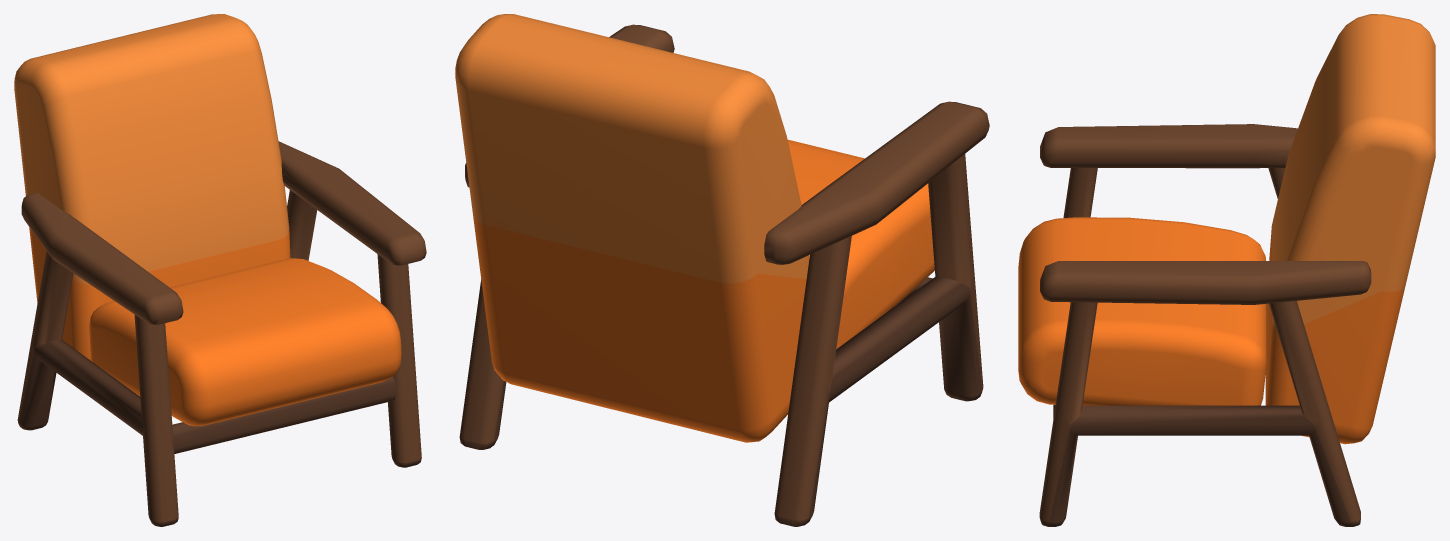
The model's file is poltrona_natal_bracos_madeira_pacote.glb.
3 renders of one model, left to right at view 1: azimuth 30°, elevation 25°; view 2: azimuth 150°, elevation 25°; view 3: azimuth 270°, elevation 25°, orthographic. The views are drawn at different scales.
Visible parts, largest first — view 1: poltrona_natal_bracos_madeira_pacote; view 2: poltrona_natal_bracos_madeira_pacote; view 3: poltrona_natal_bracos_madeira_pacote.
Boxes of the visible parts, x1,y1,x2,y2 form: poltrona_natal_bracos_madeira_pacote: (14, 14, 426, 526); poltrona_natal_bracos_madeira_pacote: (455, 14, 989, 526); poltrona_natal_bracos_madeira_pacote: (1018, 14, 1435, 526).
Size of the model in its own units: 0.8035 by 0.9139 by 0.885.
1 material, 1 textured.
